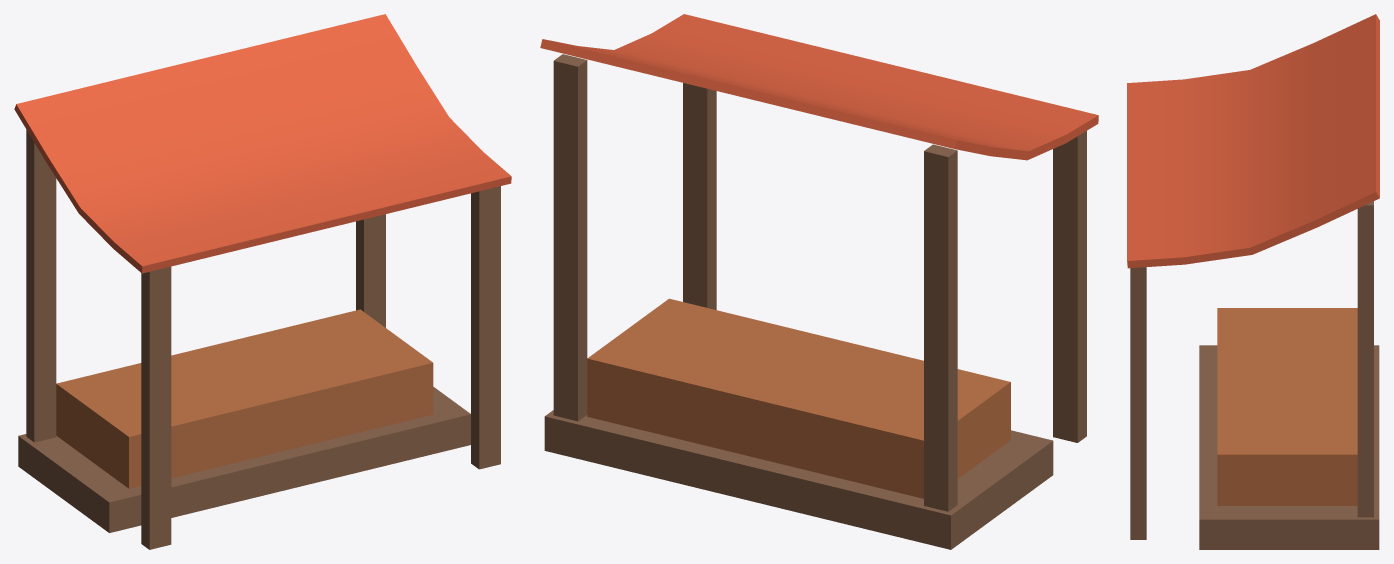
Rendered from Stall.fbx.
The picture shows the model from 3 angles, left to right: view 1: azimuth 30°, elevation 25°; view 2: azimuth 150°, elevation 25°; view 3: azimuth 270°, elevation 25°; orthographic projection. The views are drawn at different scales.
Parts seen in each view (by area): view 1: Plane.005; view 2: Plane.005; view 3: Plane.005.
Boxes of the visible parts, x1=… form: Plane.005: x1=14, y1=14, x2=511, y2=549; Plane.005: x1=540, y1=14, x2=1098, y2=549; Plane.005: x1=1127, y1=14, x2=1379, y2=549.
Bounding box in the file's own units: 1088 × 1045 × 653.
